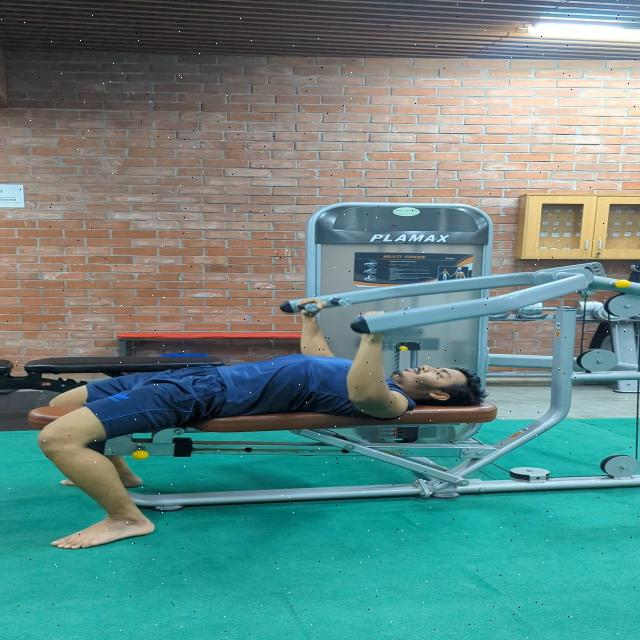Normal_BrenchPress: (29, 290, 502, 550)
